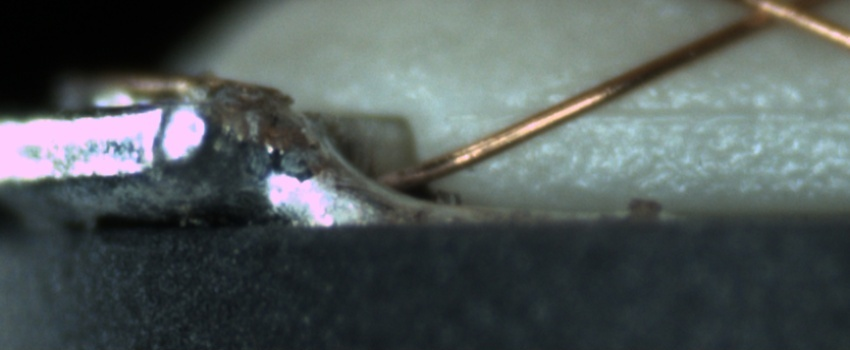CL: (713, 2, 831, 39)
DL: (424, 79, 850, 143)
TE: (108, 66, 241, 103)
